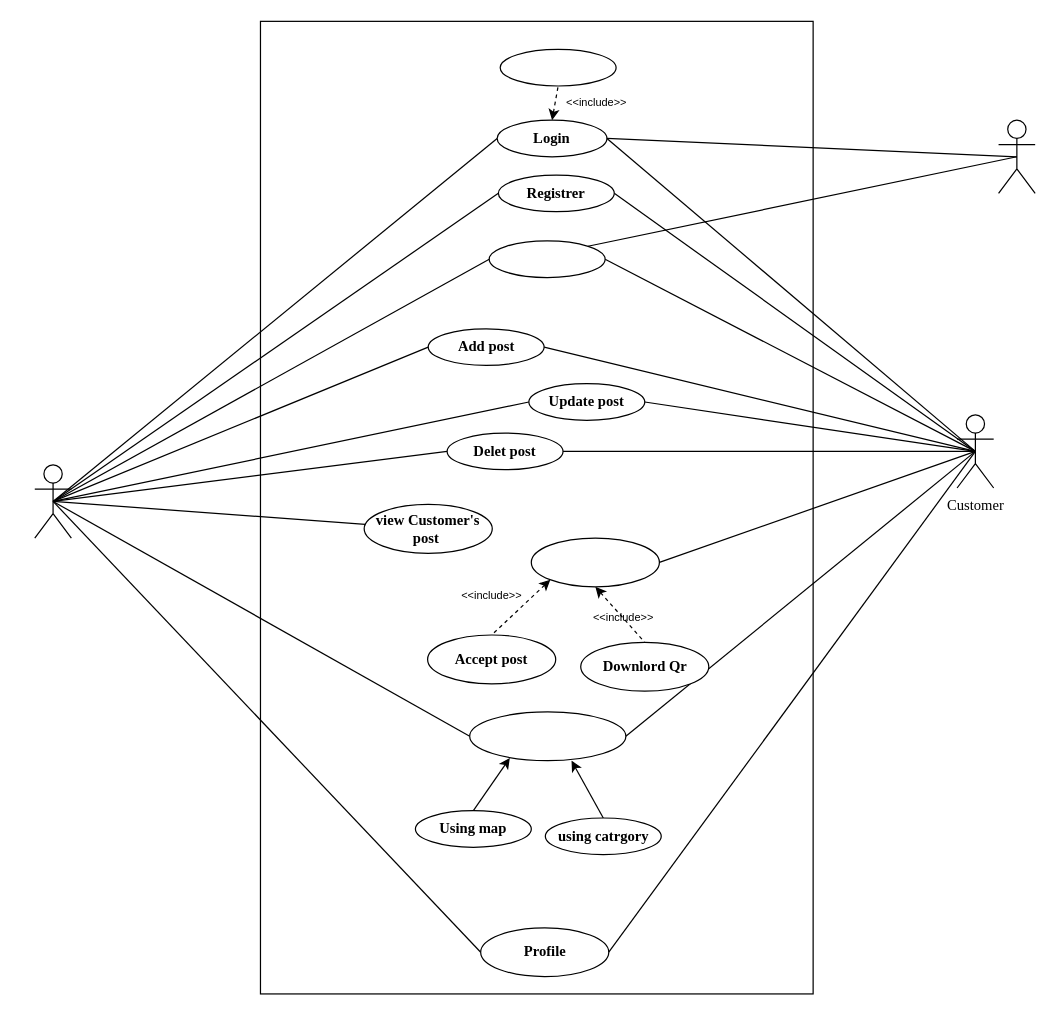
This 1058x1016 diagram has some shape labels left out. The centre of each missing label's shape, as x and y in pixels:
Admin: [1016,156]
Authentication: [557,67]
Manage post: [546,259]
Search the Job: [547,736]
Technician: [52,501]
view Technicians post: [594,562]
